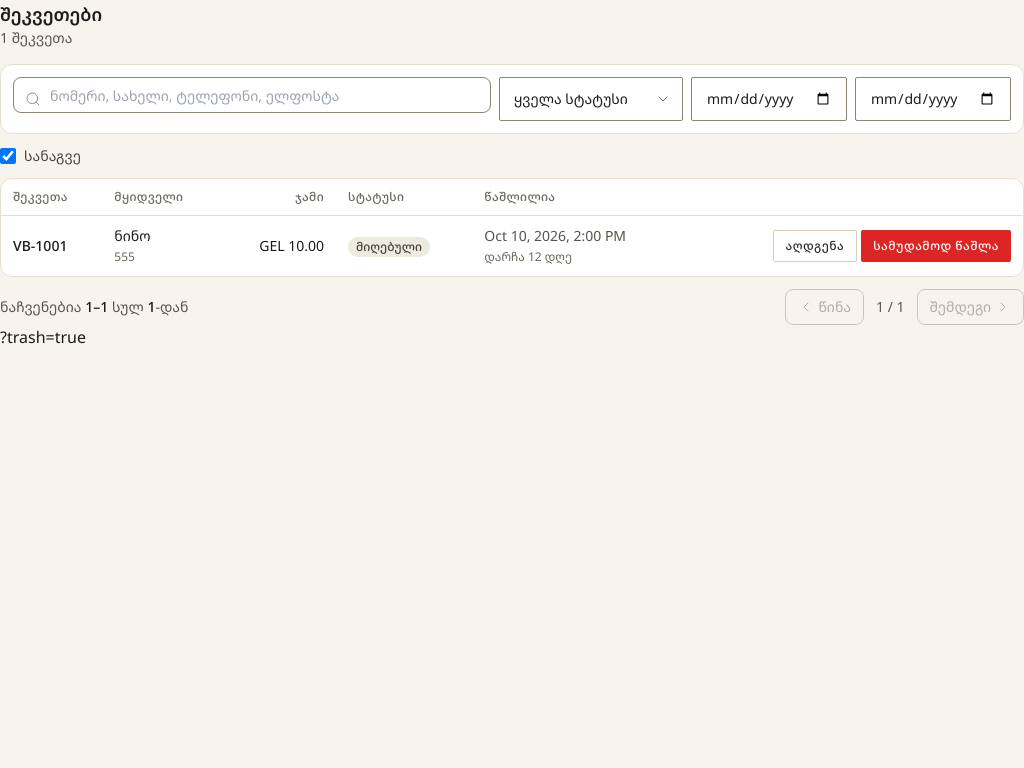
Scenario: OrderList row actions in the trash › deletes a row for good only after the dialog, then reloads
Click the button with aria-label "VB-1001 — სამუდამოდ წაშლა".
click(936, 246)  # box [861,230,1011,262]
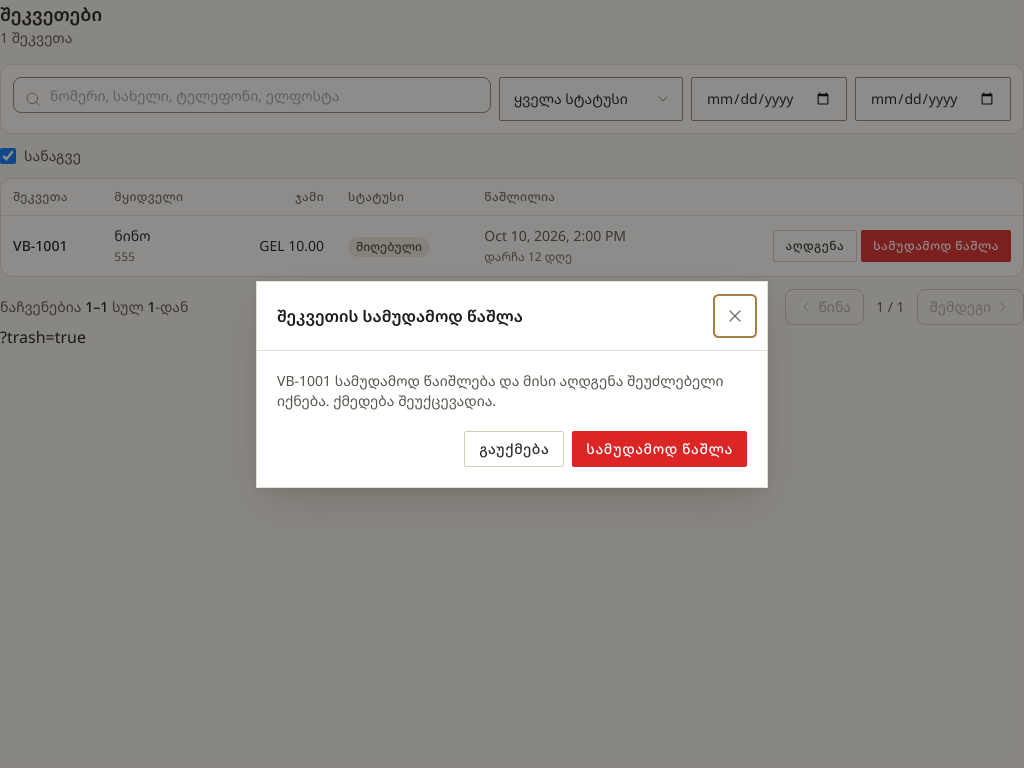
Expected: the text "აღდგენა შეუძლებელი იქნება" is shown, [277,370,724,410]
Click the button "სამუდამოდ წაშლა".
click(660, 448)  # box [572,430,747,466]
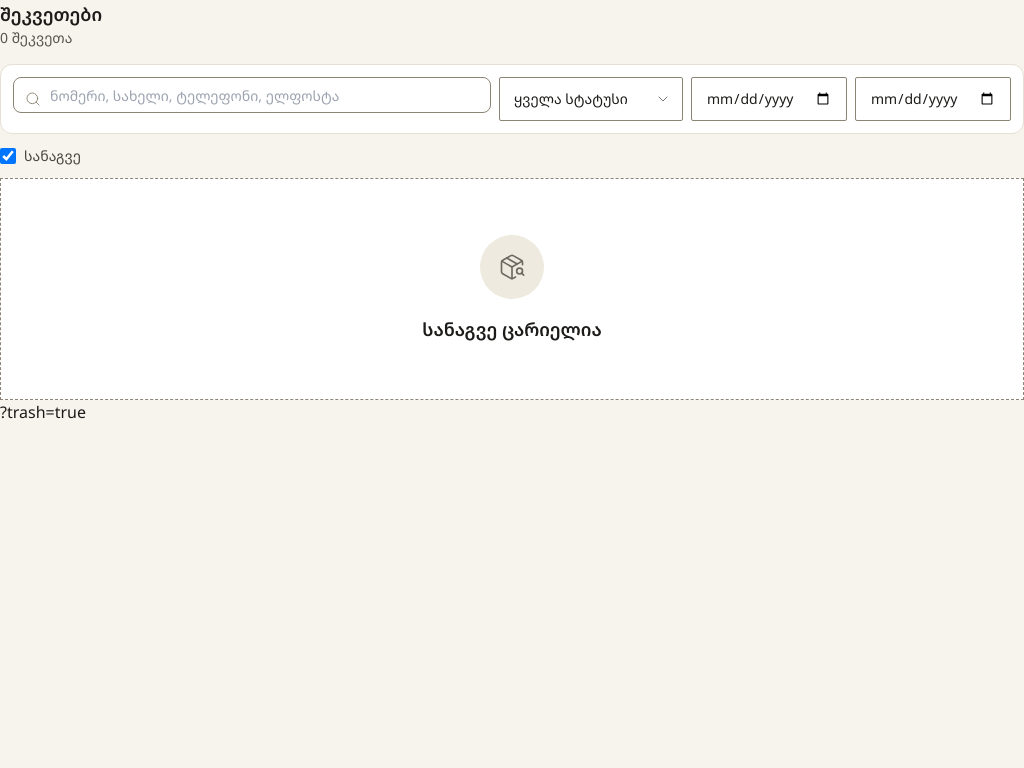
Expected: the heading "სანაგვე ცარიელია" is shown, [422,315,602,343]
